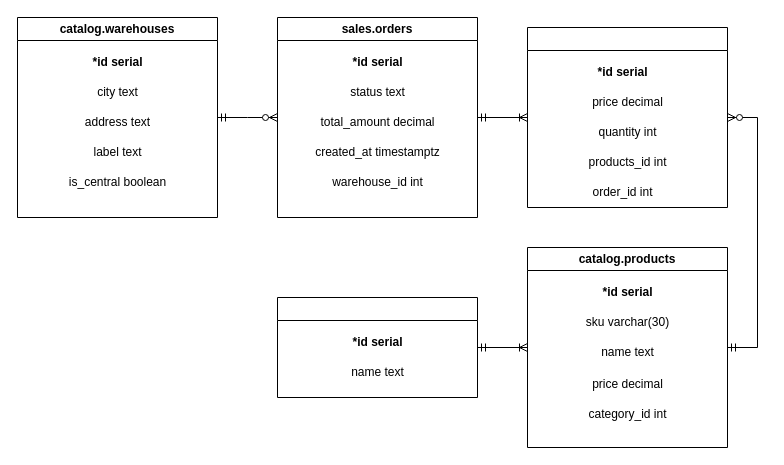
The diagram is 784 pixels wide and 465 high, and some of its shapes have lost their labels. Here are the shapes that lost their labels. From the top down, the box of each, then its label:
(526, 26, 728, 208): sales.order_items
(276, 296, 478, 398): catalog.product_categories
